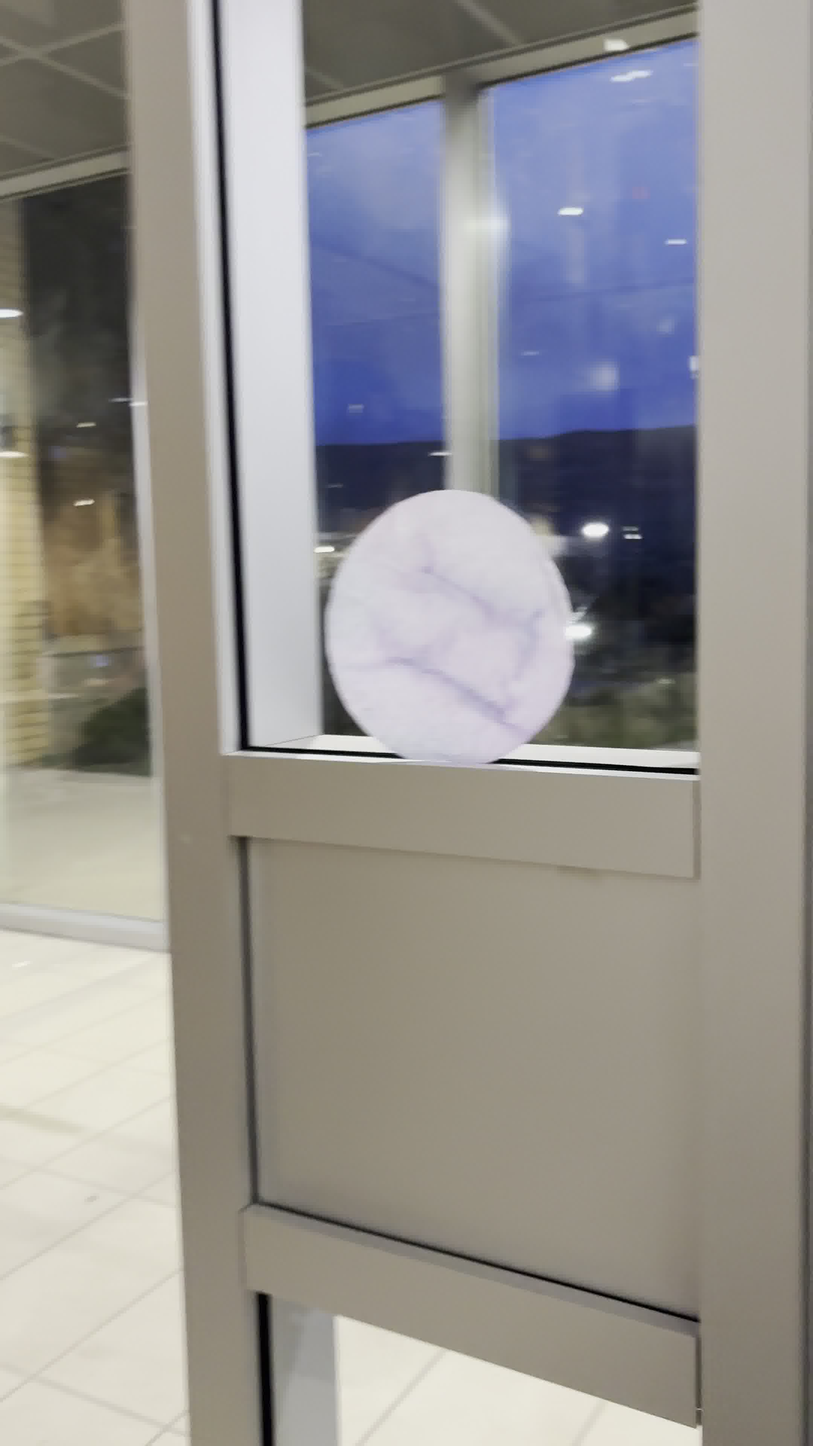Target: (319, 484, 580, 763)
